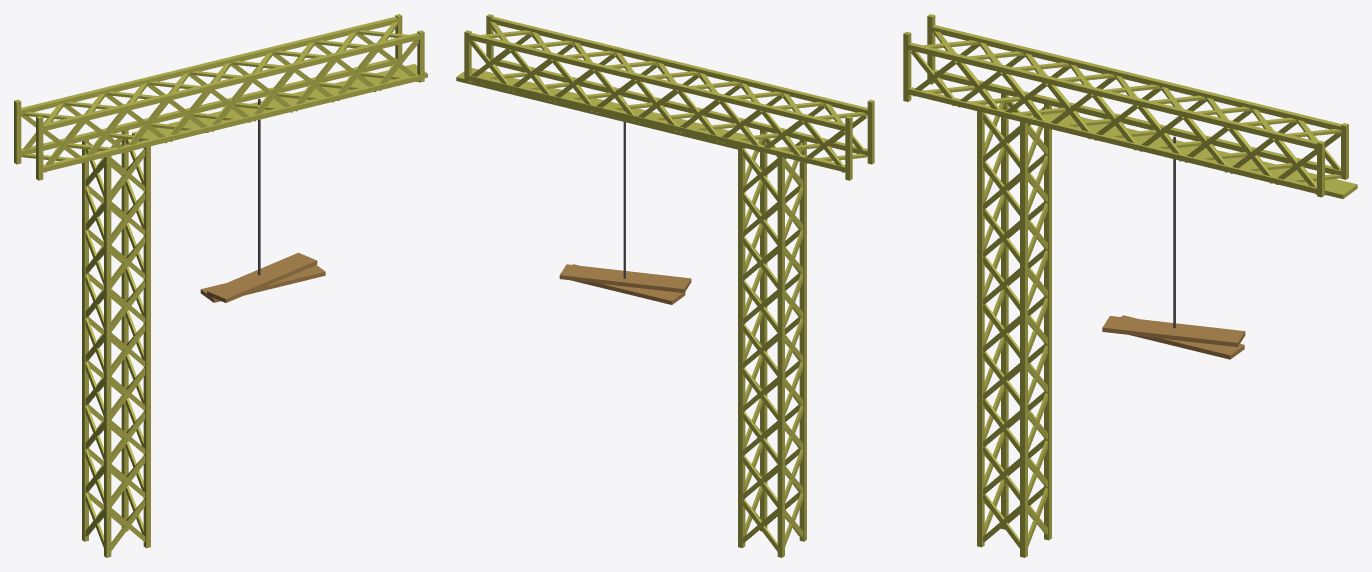
File: Crane.fbx
3 views of the same model, side by side, from view 1: azimuth 30°, elevation 25°; view 2: azimuth 150°, elevation 25°; view 3: azimuth 330°, elevation 25° (orthographic). The views are drawn at different scales.
Visible parts, largest first — view 1: Crane, Wood; view 2: Crane, Wood; view 3: Crane, Wood.
Boxes of the visible parts, x1,y1,x2,y2 form: Crane: (14,14,427,557); Wood: (200,252,325,302); Crane: (456,14,874,557); Wood: (559,264,691,304); Crane: (903,14,1357,557); Wood: (1102,315,1245,359).
Size of the model in its own units: 86.44 by 94.78 by 11.16.
